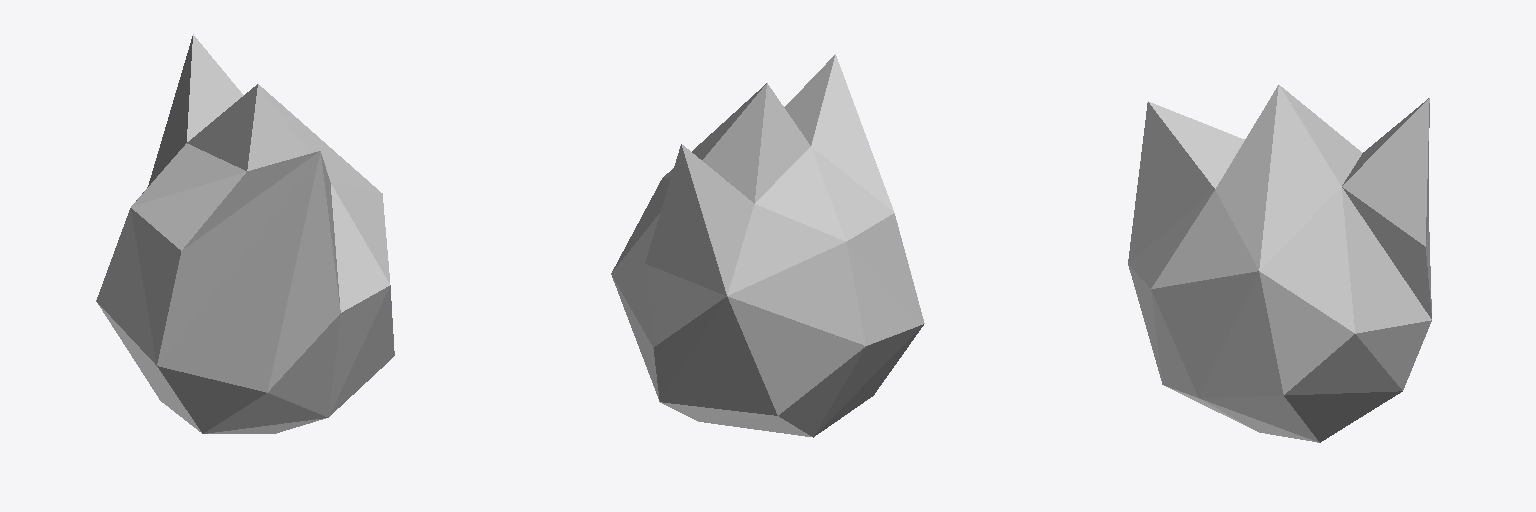
The model's file is FireSpell.obj.
The picture shows the model from 3 angles: view 1: azimuth 30°, elevation 25°; view 2: azimuth 150°, elevation 25°; view 3: azimuth 270°, elevation 25°; orthographic projection.
Parts seen in each view (by area): view 1: Sphere; view 2: Sphere; view 3: Sphere.
Part boxes in pixels (left/top/right/bottom): Sphere: left=96, top=34, right=394, bottom=433; Sphere: left=611, top=54, right=924, bottom=437; Sphere: left=1128, top=85, right=1431, bottom=442.
Size of the model in its own units: 1.97 by 2.52 by 2.01.